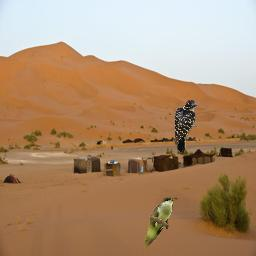Cuckoo: (143, 197, 178, 248)
Woodpecker: (175, 99, 199, 155)
